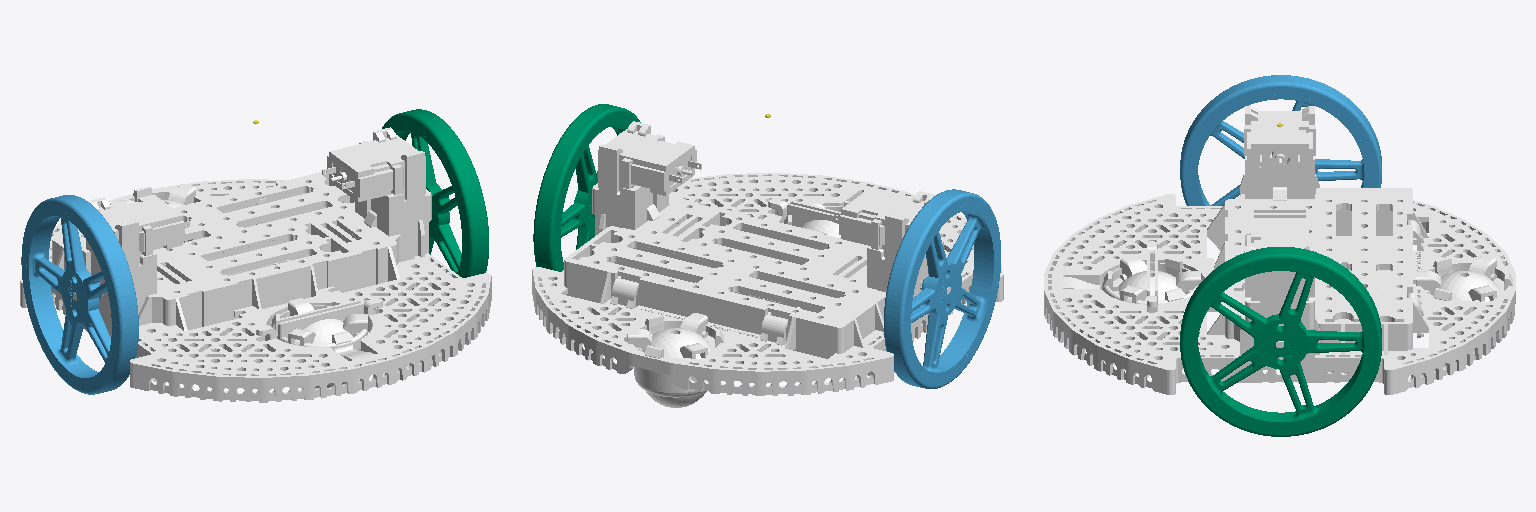
URDF robot description (ratatosk):
<?xml version="1.0"?>
  <robot name = "ratatosk">
    <link name="base_link">

      <visual>
        <geometry>
          <mesh filename = "package://ratatosk_description/meshes/chassis_centered.stl" scale="0.001 0.001 0.001"/>
        </geometry>
	<material name="white">
	  <color rgba="1 1 1 1"/>
	</material>
      </visual>

      <inertial>
        <mass value = "10"/>
        <inertia ixx="0.1" ixy="0" ixz="0" iyy="0.1" iyz="0" izz="0.1"/>
      </inertial>

      <collision>
        <geometry>
          <cylinder radius = "0.0825" length = "0.035"/>
        </geometry>
      </collision>

      <collision>
        <origin xyz="0 -0.045 -0.022"/>
        <geometry>0.04
          <sphere radius = "0.0125"/>
        </geometry>
      </collision>

      <collision>
        <origin xyz="0 0.065 -0.022"/>
        <geometry>
          <sphere radius = "0.0125"/>
        </geometry>
      </collision>

    </link>

    <link name="wheel_l">

      <visual>
        <geometry>
          <mesh filename = "package://ratatosk_description/meshes/wheel_centered.stl" scale="0.001 0.001 0.001"/>
        </geometry>
      </visual>

      <inertial>
        <mass value = "0.03"/>
        <inertia ixx="0.1" ixy="0" ixz="0" iyy="0.1" iyz="0" izz="0.1"/>
      </inertial>

      <collision>
        <origin xyz="-0.0025 0 0" rpy="0 1.571 0"/>
        <geometry>
          <cylinder radius = "0.037" length = "0.008"/>
        </geometry>
      </collision>

    </link>

    <link name="wheel_r">

      <visual>
        <geometry>
          <mesh filename = "package://ratatosk_description/meshes/wheel_centered.stl" scale="0.001 0.001 0.001"/>
        </geometry>
      </visual>

      <inertial>
        <mass value = "0.03"/>
        <inertia ixx="0.1" ixy="0" ixz="0" iyy="0.1" iyz="0" izz="0.1"/>
      </inertial>

      <collision>
        <origin xyz="-0.0025 0 0" rpy="0 1.571 0"/>
        <geometry>
          <cylinder radius = "0.037" length = "0.008"/>
        </geometry>
      </collision>

    </link>

    <link name="laser">
	
	<visual>
	   <geometry>
	     <cylinder radius="0.001" length="0.0005"/>
	   </geometry>
	</visual>

      <inertial>
        <mass value = "0"/>
        <inertia ixx="0" ixy="0" ixz="0" iyy="0" iyz="0" izz="0"/>
      </inertial>

	<collision>
	   <origin xyz="0 0 0.05"/>
	   <geometry>
	     <cylinder radius="0.001" length="0.0005"/>
	   </geometry>
	</collision>

    </link>

<!-- End of Links -->

    <joint name="wheel_l_joint" type="continuous">
      <origin xyz="-0.068 0 0"/>
      <axis xyz="1 0 0"/>
      <parent link = "base_link"/>
      <child link = "wheel_l"/>
    </joint>

    <joint name="wheel_r_joint" type="continuous">
      <origin xyz="0.068 0 0" rpy="0 3.14 0"/>
      <axis xyz="-1 0 0"/>
      <parent link = "base_link"/>
      <child link = "wheel_r"/>
    </joint>

    <joint name="laser_joint" type="fixed">
      <origin xyz="0 0 0.05"/>
      <parent link = "base_link"/>
      <child link = "laser"/>
    </joint>

<!-- End of Joint -->

<transmission name="wheel_l_transmission">
  <type>transmission_interface/SimpleTransmission</type>
  <joint name="wheel_l_joint">
    <hardwareInterface>hardware_interface/VelocityJointInterface</hardwareInterface>
  </joint>
  <actuator name="wheel_l_motor">
    <mechanicalReduction>1</mechanicalReduction>
    <hardwareInterface>hardware_interface/VelocityJointInterface</hardwareInterface>
  </actuator>
</transmission>

<transmission name="wheel_r_transmission">
  <type>transmission_interface/SimpleTransmission</type>
  <joint name="wheel_r_joint">
    <hardwareInterface>hardware_interface/VelocityJointInterface</hardwareInterface>
  </joint>
  <actuator name="wheel_r_motor">
    <mechanicalReduction>1</mechanicalReduction>
    <hardwareInterface>hardware_interface/VelocityJointInterface</hardwareInterface>
  </actuator>
</transmission>

<!-- End of Transmission -->

    <gazebo>
        <plugin name="gazebo_ros_control" filename="libgazebo_ros_control.so">
            <robotSimType>gazebo_ros_control/DefaultRobotHWSim</robotSimType>
        </plugin>
    </gazebo>

    <gazebo reference="laser">
	<sensor type="ray" name="hokuyo_sensor">
	   <pose>0 0 0 0 0 0</pose>
	   <visualize>false</visualize>
	   <update_rate>40</update_rate>
	   <ray>
	      <scan>
		<horizontal>
		   <samples>720</samples>
		   <resolution>1</resolution>
		   <min_angle>-0.349066</min_angle>
		   <max_angle>3.490659</max_angle>
		</horizontal>
	      </scan>
	      <range>
		<min>0.10</min>
		<max>30.0</max>
		<resolution>0.01</resolution>
	      </range>
	      <noise>
		<type>gaussian</type>
		<mean>0.0</mean>
		<stddev>0.01</stddev>
	      </noise>
	   </ray>
	   <plugin name="gazebo_ros_hokuyo_sensor_controller" filename="libgazebo_ros_laser.so">
		<topicName>/scan</topicName>
		<frameName>laser</frameName>
	   </plugin>
	</sensor>
    </gazebo>

<!-- End of Gazebo -->

<!-- Use lidar with small angle to mimic IR sensor -->
<!-- Look into conver lidar message into range message for readability -->
<!-- Example of lidar simulation is on Cappybot -->

  </robot>

--- What the picture shows (computed from the rendered views, not written in the file) ---
The picture shows the robot from 3 angles, left to right: view 1: azimuth 30°, elevation 25°; view 2: azimuth 150°, elevation 25°; view 3: azimuth 270°, elevation 25°; orthographic projection.
Model ratatosk with 4 links and 3 joints (2 continuous, 1 fixed), rooted at base_link, posed all joints at 0.
Links seen in each view (by area): view 1: base_link, wheel_l, wheel_r; view 2: base_link, wheel_l, wheel_r; view 3: base_link, wheel_r, wheel_l.
Boxes of the visible links, x1=… form: base_link: x1=20, y1=127, x2=491, y2=402; wheel_l: x1=21, y1=195, x2=138, y2=394; wheel_r: x1=382, y1=109, x2=488, y2=305; base_link: x1=532, y1=121, x2=1003, y2=407; wheel_l: x1=884, y1=189, x2=1000, y2=388; wheel_r: x1=533, y1=104, x2=640, y2=271; base_link: x1=1044, y1=106, x2=1515, y2=394; wheel_r: x1=1180, y1=247, x2=1381, y2=436; wheel_l: x1=1180, y1=75, x2=1381, y2=205.
Size in the robot's own frame: 0.1488 by 0.1632 by 0.0853 metres.
3 mesh visuals loaded from 2 distinct referenced files (2 binary STL).
